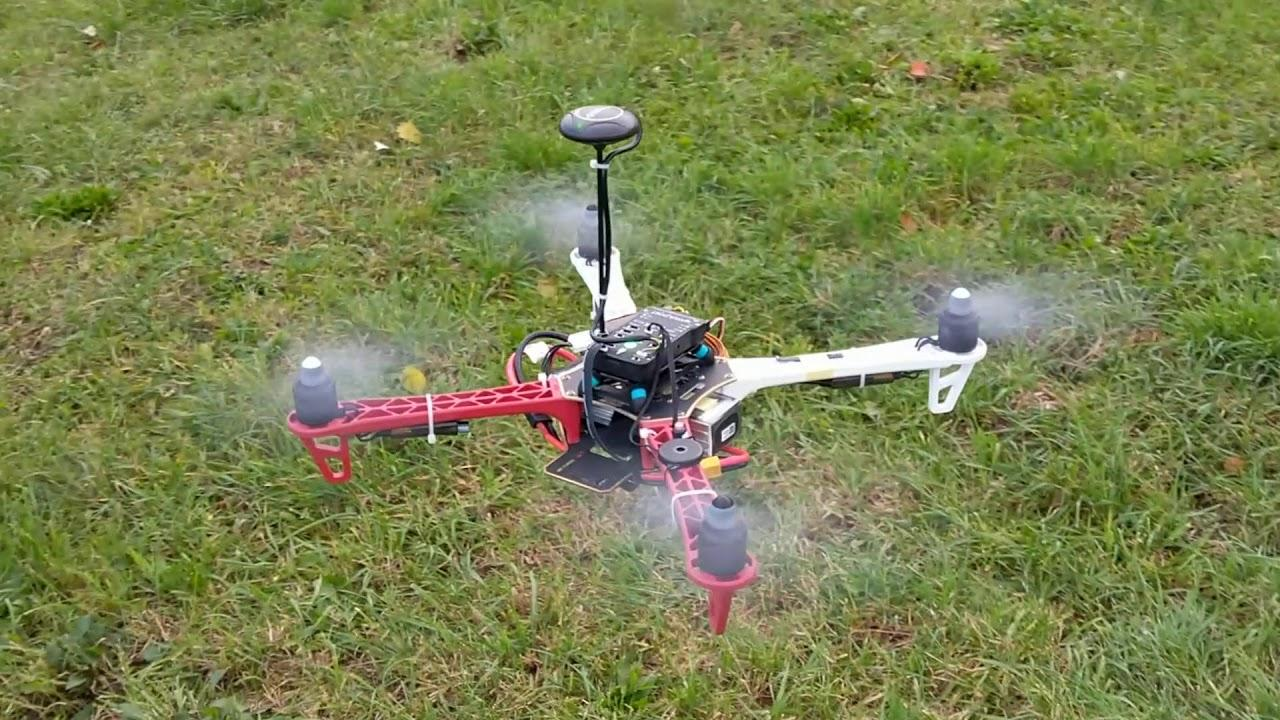drone: (251, 78, 1039, 625)
